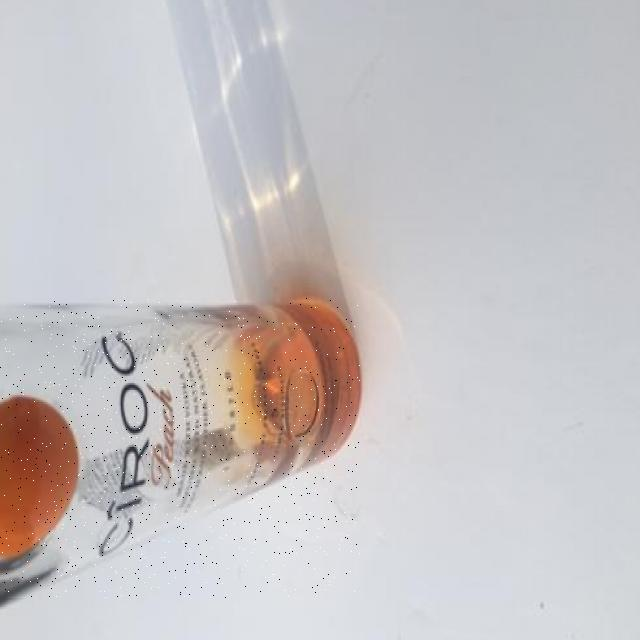glass: (0, 299, 360, 598)
